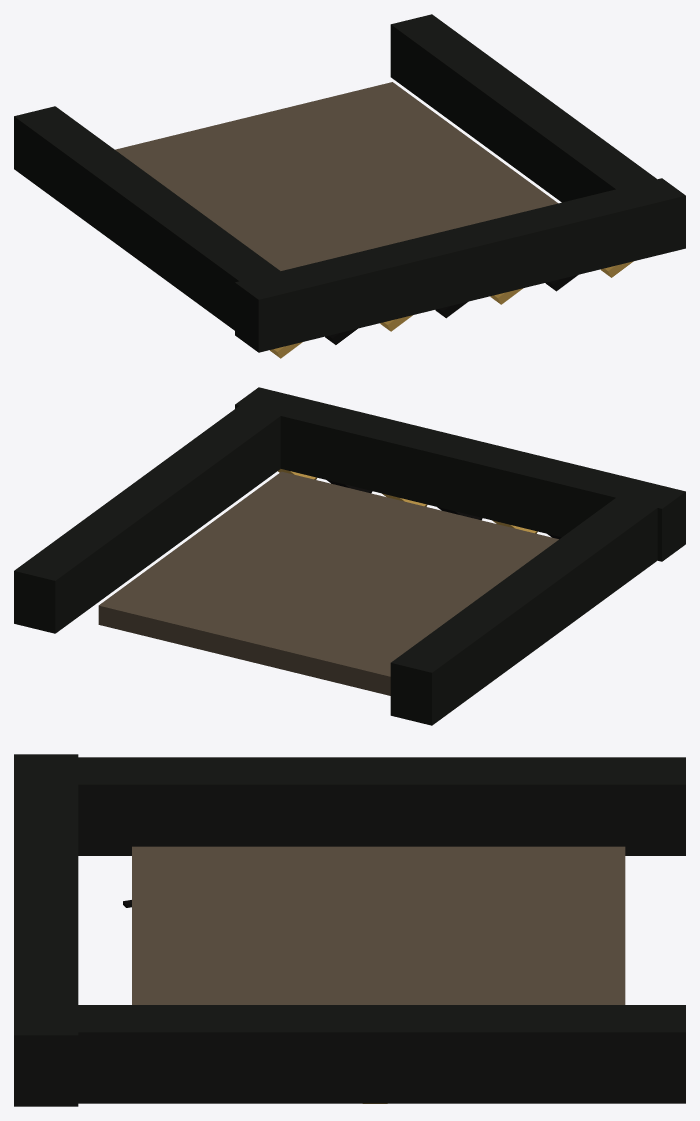
Rendered from dz_shelter_exit_bulkhead_premium.glb.
The picture shows the model from 3 angles, top to bottom: view 1: azimuth 30°, elevation 25°; view 2: azimuth 150°, elevation 25°; view 3: azimuth 270°, elevation 25°; orthographic projection. The views are drawn at different scales.
Parts seen in each view (by area): view 1: dirty torn inner tarp, heavy exit lintel, heavy exit frame left, heavy exit frame right; view 2: dirty torn inner tarp, heavy exit lintel, heavy exit frame right, heavy exit frame left; view 3: dirty torn inner tarp, heavy exit frame right, heavy exit frame left, heavy exit lintel.
Part boxes in pixels (x1=…): dirty torn inner tarp: x1=115, y1=82, x2=558, y2=270; heavy exit lintel: x1=235, y1=178, x2=685, y2=352; heavy exit frame left: x1=14, y1=106, x2=296, y2=330; heavy exit frame right: x1=390, y1=14, x2=672, y2=202; dirty torn inner tarp: x1=98, y1=471, x2=558, y2=695; heavy exit lintel: x1=235, y1=387, x2=685, y2=561; heavy exit frame right: x1=14, y1=394, x2=295, y2=633; heavy exit frame left: x1=390, y1=486, x2=672, y2=725; dirty torn inner tarp: x1=132, y1=846, x2=625, y2=1004; heavy exit frame right: x1=35, y1=1005, x2=685, y2=1103; heavy exit frame left: x1=35, y1=757, x2=685, y2=855; heavy exit lintel: x1=14, y1=754, x2=78, y2=1106.
Size of the model in its own units: 1.86 by 0.42 by 1.88.
